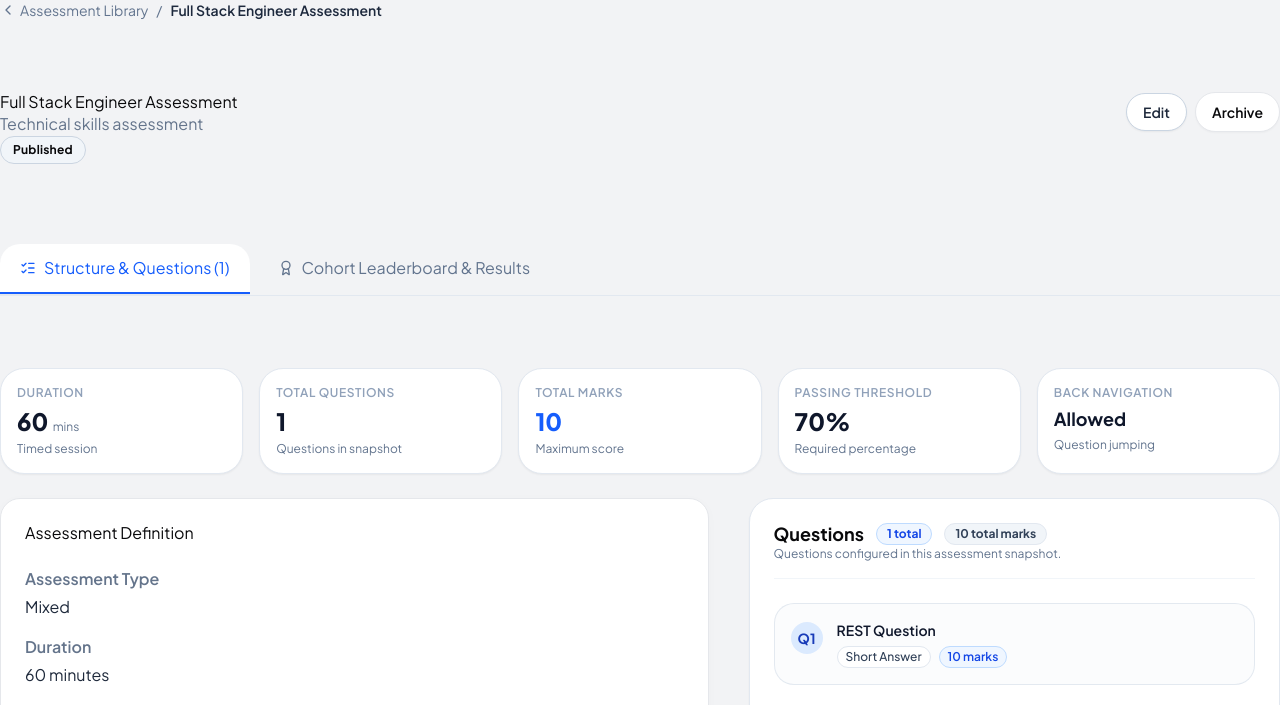
Test: cohort leaderboard and competency breakdowns › toggles between structure view and cohort leaderboard tab
The width and height of the screenshot is (1280, 705).
Expected: the heading "REST Question" is shown, [837,620,936,638]
Click the tab "Cohort Leaderboard & Results": (404, 269) [258,244,550,294]
(page scrolled)
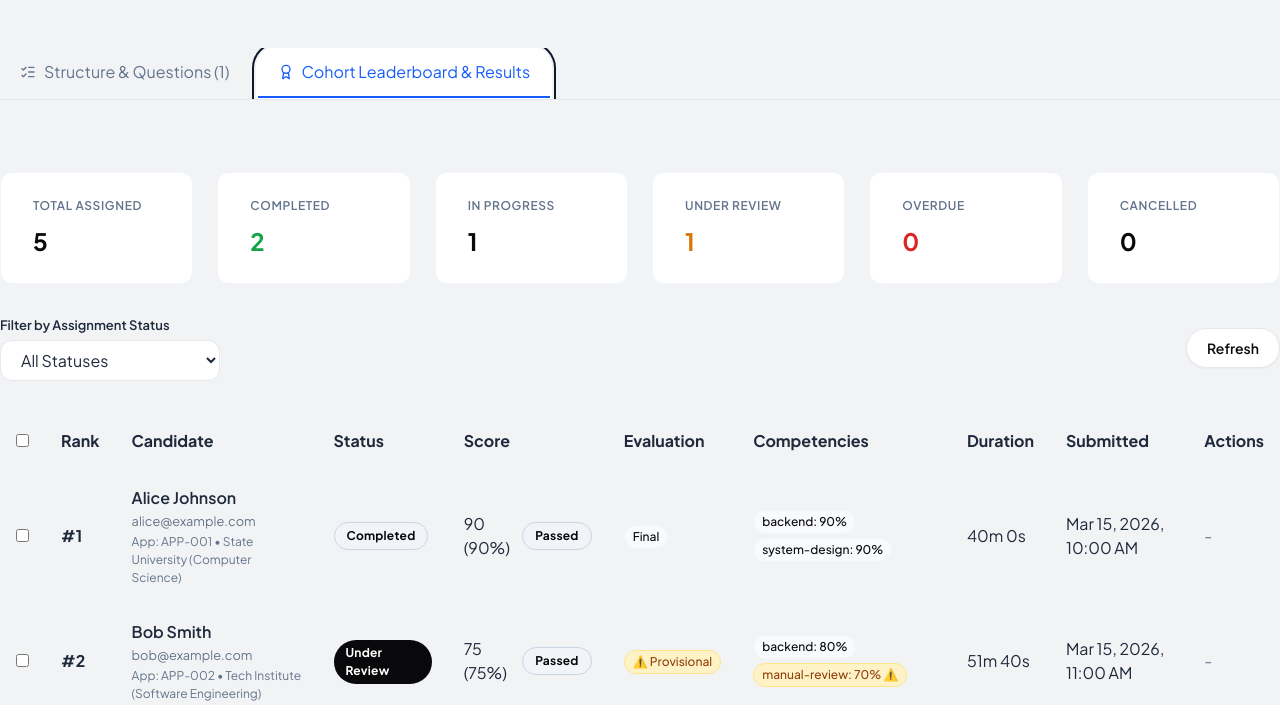
Now the text "Total Assigned" is shown, box [33,197,160,215]
Now the text "Alice Johnson" is shown, box [132,486,236,508]
Now the text "#1" is shown, box [61,525,82,546]
